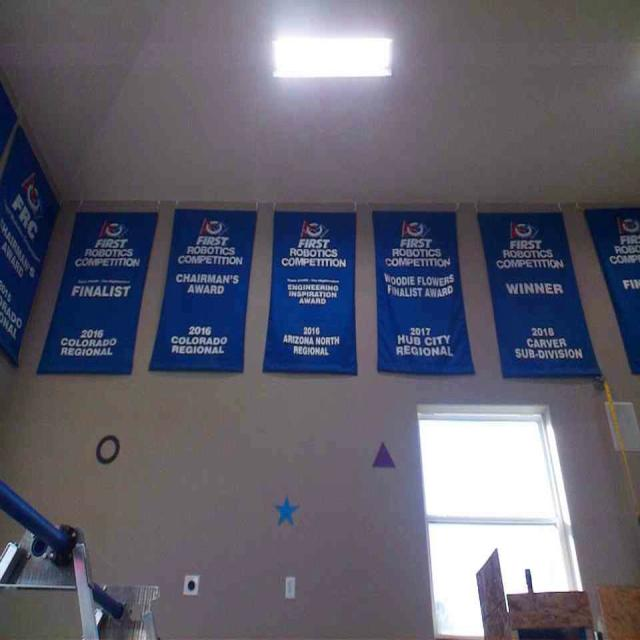ring_black: (95, 433, 121, 465)
star_blue: (273, 494, 300, 526)
triangle_purple: (370, 441, 397, 468)
